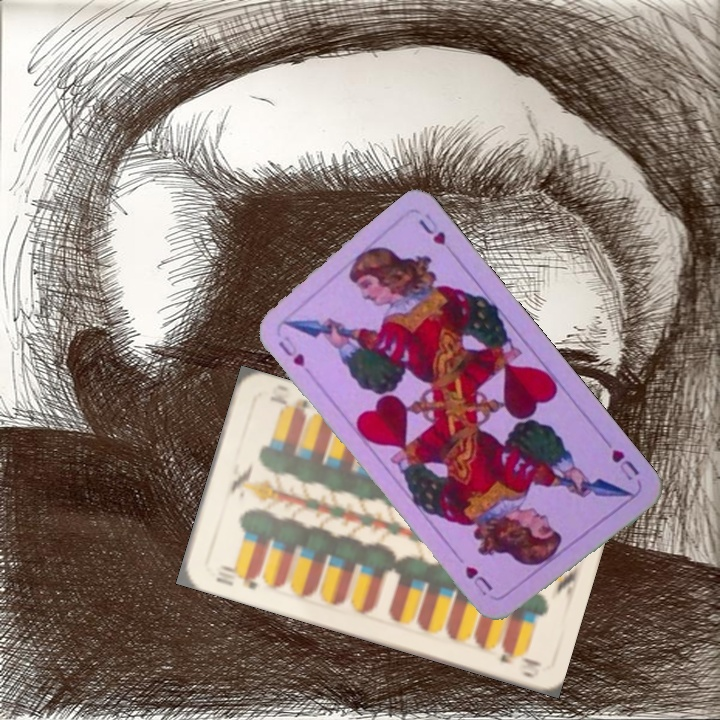E10: (211, 561, 262, 592)
HU: (607, 445, 642, 484), (274, 331, 308, 370)
